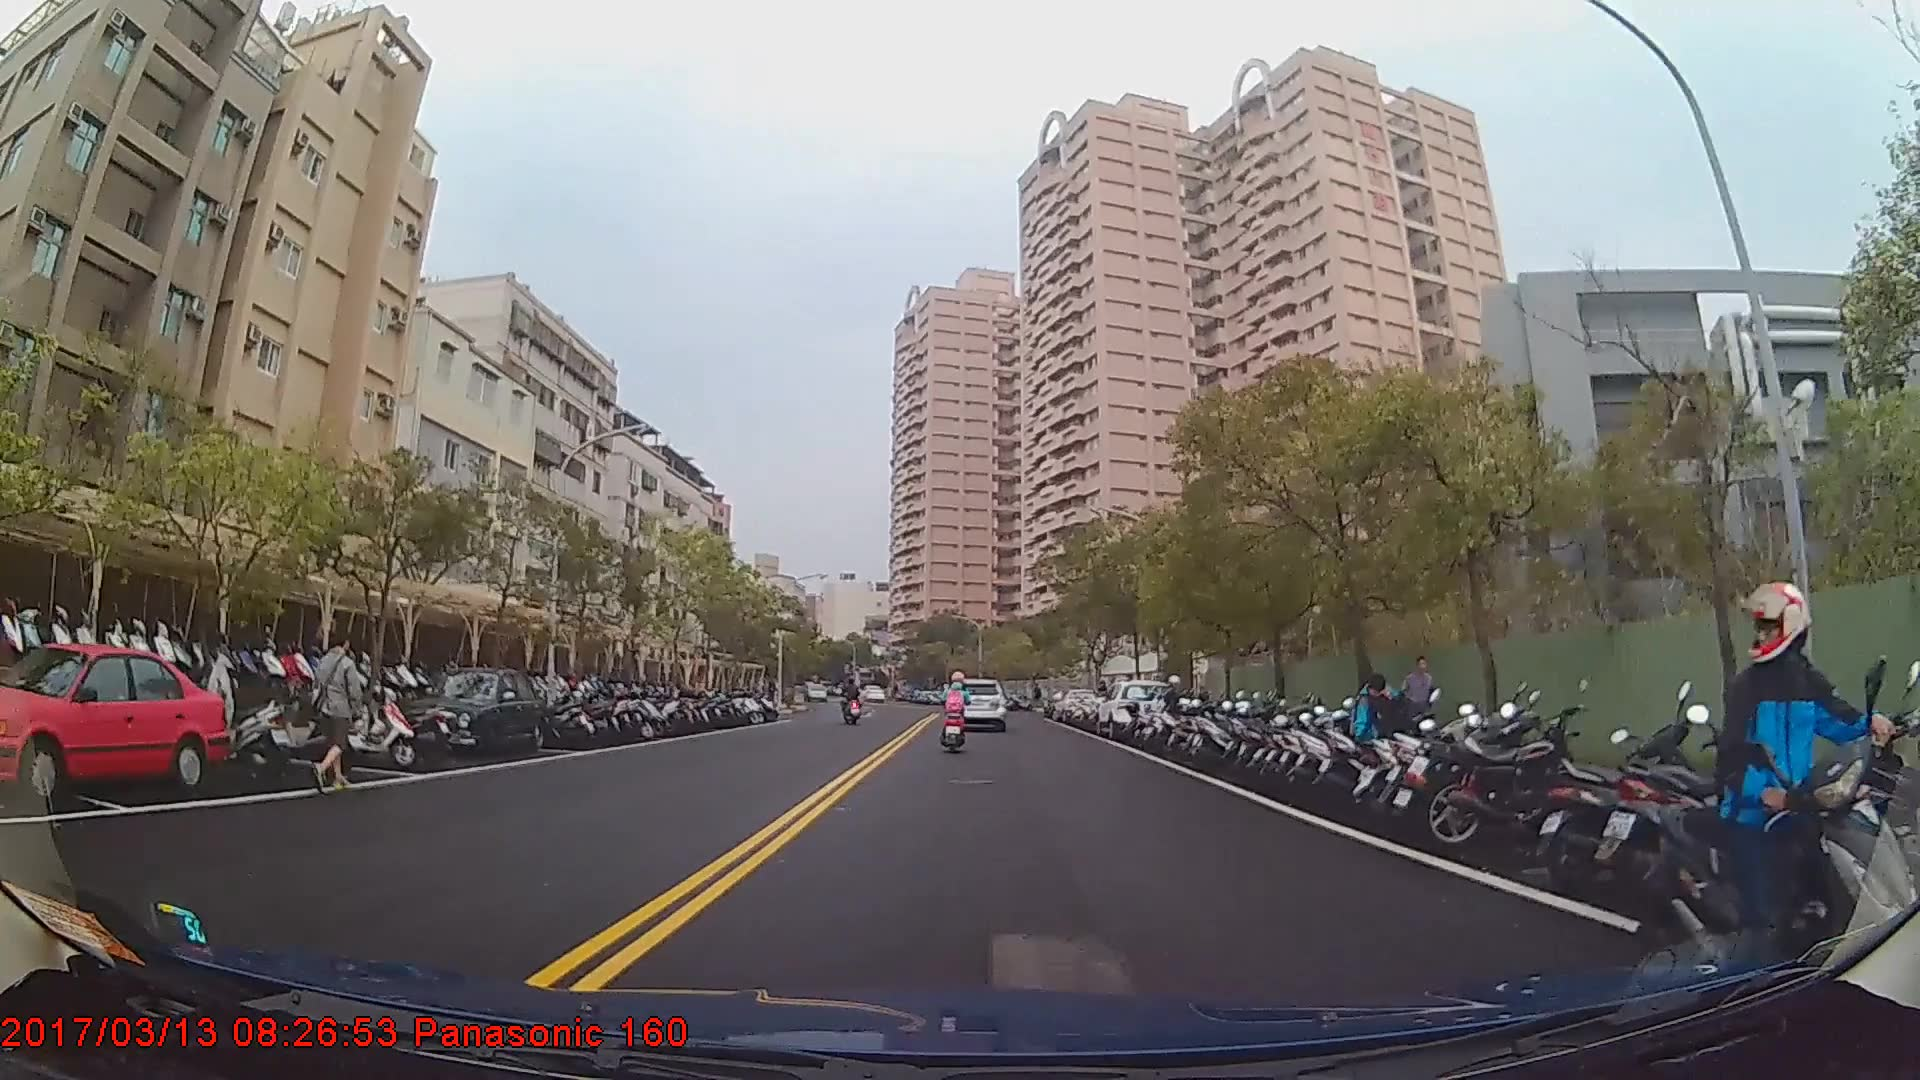pedestrian: (302, 628, 379, 795), (1354, 672, 1413, 803), (1398, 655, 1436, 759)
rider: (1653, 578, 1856, 1029), (940, 673, 973, 748), (841, 679, 863, 726)
vehicle: (0, 641, 227, 806), (398, 668, 542, 761), (1095, 679, 1179, 742), (949, 677, 1006, 729)
